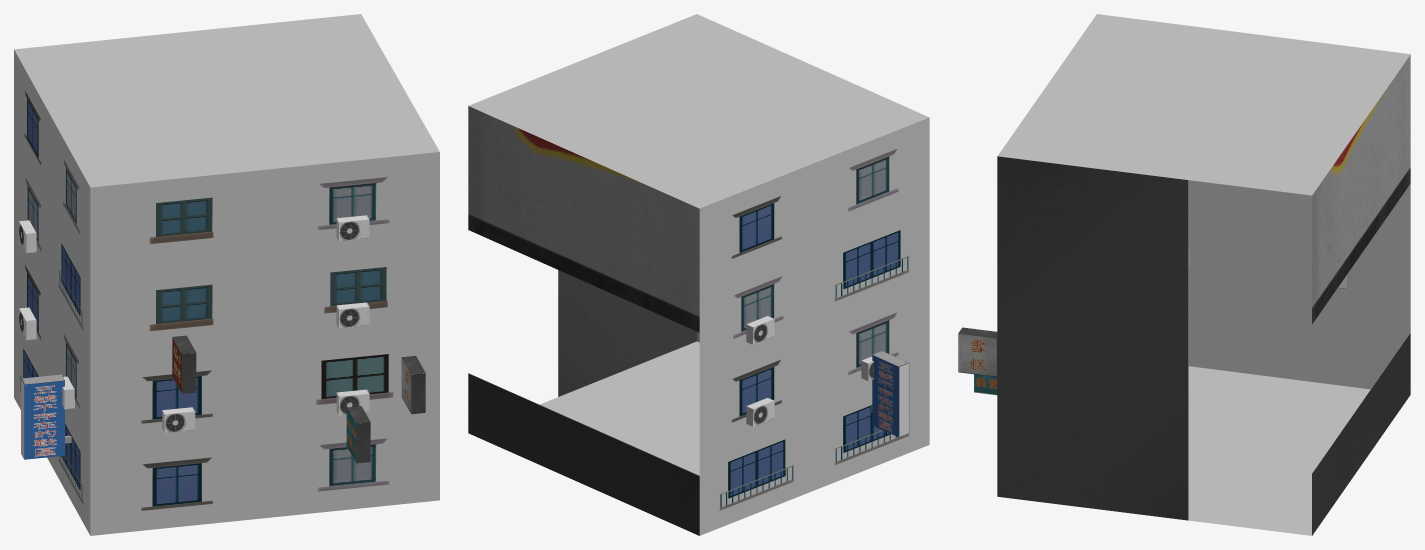
File: 111StationFix09.fbx
The picture shows the model from 3 angles, left to right: view 1: azimuth 30°, elevation 25°; view 2: azimuth 150°, elevation 25°; view 3: azimuth 270°, elevation 25°; orthographic projection. The views are drawn at different scales.
Visible parts, largest first — view 1: Cube.611; view 2: Cube.611; view 3: Cube.611.
Part boxes in pixels (left/top/right/bottom): Cube.611: left=14, top=14, right=439, bottom=535; Cube.611: left=468, top=14, right=929, bottom=535; Cube.611: left=958, top=14, right=1410, bottom=535.
Bounding box in the file's own units: 14.48 × 11.96 × 14.42.
